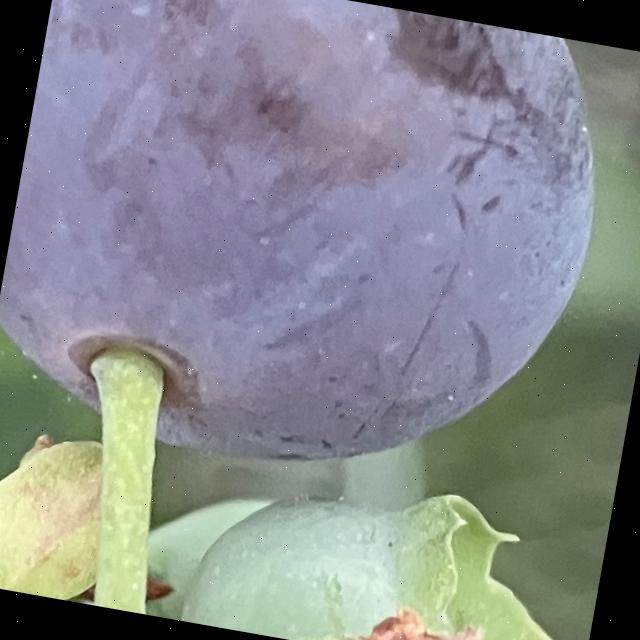Blueberries: (0, 0, 624, 515)
